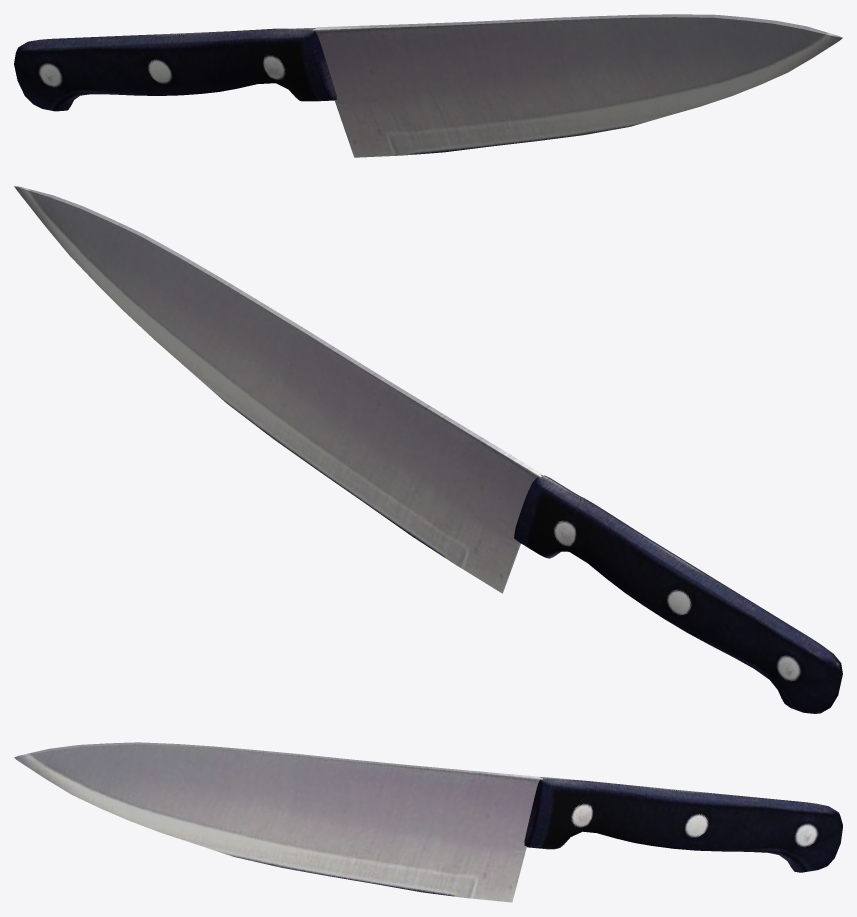
File: Butcher Knife.fbx
The picture shows the model from 3 angles, top to bottom: view 1: azimuth 30°, elevation 25°; view 2: azimuth 210°, elevation 25°; view 3: azimuth 270°, elevation 25°; orthographic projection. The views are drawn at different scales.
Visible parts, largest first — view 1: butcher knife; view 2: butcher knife; view 3: butcher knife.
Part boxes in pixels (left/top/right/bottom): butcher knife: left=14, top=14, right=842, bottom=157; butcher knife: left=14, top=186, right=842, bottom=713; butcher knife: left=14, top=742, right=842, bottom=902.
Size of the model in its own units: 126 by 93.79 by 255.
